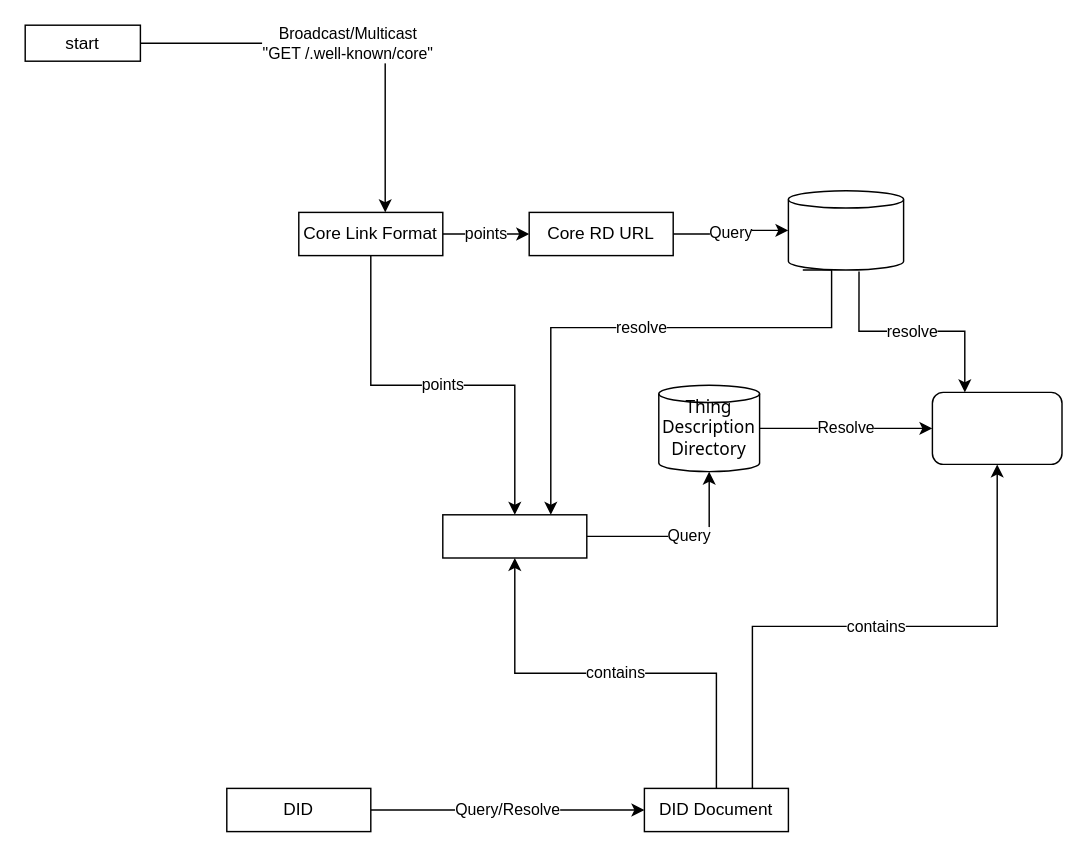
Image size: 1087x857. Some labels were removed from this diagram. The shapes that lost their labels are listed below. From the top down, each one's box as (x1, y1, x2, y2) in pixels, then its label:
(787, 189, 904, 270): Core RD
(931, 391, 1062, 464): Thing Description
(441, 513, 587, 558): TDir URL
